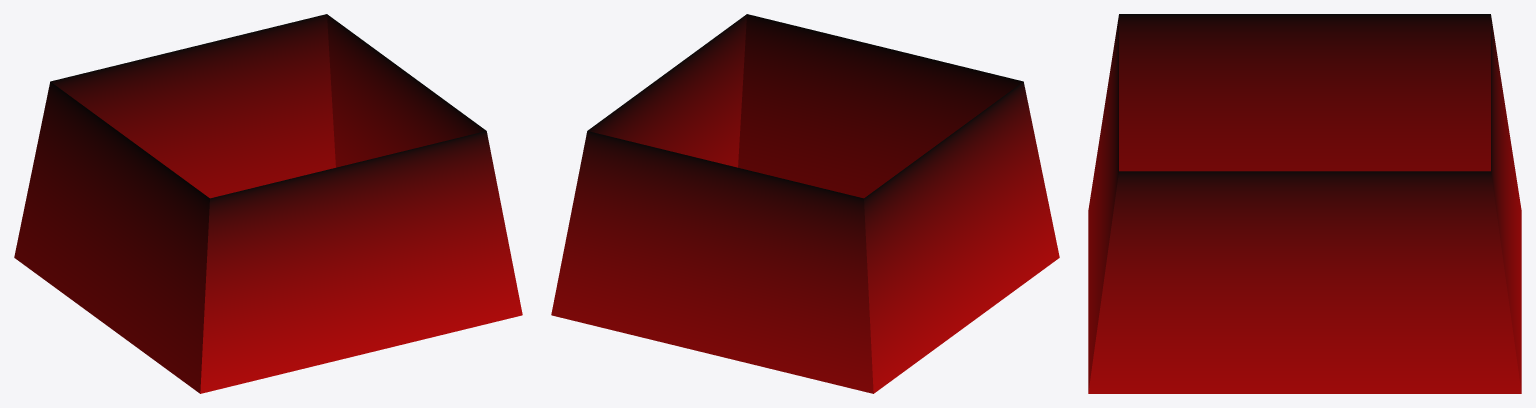
Rendered from Glow.fbx.
3 views of the same model, side by side, from view 1: azimuth 30°, elevation 25°; view 2: azimuth 150°, elevation 25°; view 3: azimuth 270°, elevation 25° (orthographic). The views are drawn at different scales.
Visible parts, largest first — view 1: pCube1; view 2: pCube1; view 3: pCube1.
Boxes of the visible parts, left/top/right/bottom form: pCube1: left=14, top=14, right=522, bottom=393; pCube1: left=551, top=14, right=1059, bottom=393; pCube1: left=1088, top=14, right=1521, bottom=393.
Size of the model in its own units: 212 by 113 by 212.
